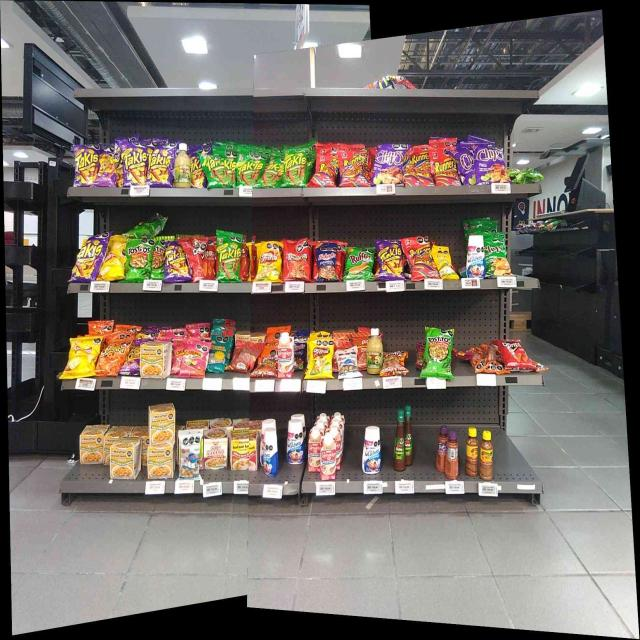bitzEnchilado95: (474, 346, 499, 372)
bitzHabanero: (415, 341, 423, 368)
bokadosCacahuates: (318, 244, 336, 282), (295, 332, 305, 371)
botaneraChilito: (479, 431, 493, 478), (465, 426, 478, 474)
cheetosFlaminHot: (124, 341, 140, 374)
cheetosOriginal: (99, 339, 122, 374)
chipsFuego: (375, 143, 403, 185), (476, 142, 504, 182), (458, 146, 475, 184)
chipsJalapeno: (486, 236, 507, 275)
chipsPapatinas: (510, 168, 538, 183)
churrumais: (182, 342, 206, 376)
delPrimoSalsa: (366, 328, 382, 371), (176, 143, 190, 187)
doritosNacho: (190, 238, 210, 277), (502, 339, 527, 370)
fritosLimon: (309, 340, 332, 377), (258, 242, 280, 280)
leoCacahuates: (180, 431, 200, 480), (338, 350, 358, 377)
leoMix: (256, 347, 277, 376), (384, 352, 406, 375)
maruchanPollo: (110, 438, 142, 477), (149, 404, 175, 442), (142, 343, 170, 376), (148, 445, 174, 477)
maruchanRes: (232, 431, 257, 470)
nestleCarnation: (320, 434, 335, 480), (279, 333, 293, 377), (308, 429, 320, 472)
nestleLechera: (362, 426, 381, 474), (262, 428, 278, 476), (287, 420, 304, 464), (467, 235, 484, 277)
nissinRes: (204, 430, 227, 469)
productoAtras: (234, 343, 253, 371)
rancheritos: (285, 241, 309, 280)
rufflesQueso: (347, 247, 372, 279)
runners: (410, 238, 434, 278), (341, 152, 367, 188), (434, 146, 456, 186), (414, 148, 431, 186), (318, 152, 336, 186), (368, 76, 409, 88)
sabritasOriginal: (71, 339, 96, 373), (105, 241, 124, 281)
salsaBufalo: (394, 409, 403, 472), (406, 405, 412, 465)
semillasCalabaza: (437, 247, 453, 279)
semillasGirasol: (211, 330, 227, 372)
tajinDulce: (445, 432, 459, 476), (436, 426, 444, 472)
takisFuego: (78, 234, 102, 280), (123, 141, 148, 184), (150, 144, 172, 185), (75, 145, 97, 185), (379, 242, 402, 280), (165, 242, 187, 280), (99, 150, 117, 188)
takisOriginal: (217, 232, 240, 280), (238, 150, 260, 186), (285, 148, 304, 187), (205, 154, 226, 186), (264, 157, 283, 186)
tostitos: (425, 328, 451, 376), (127, 238, 148, 278), (129, 214, 165, 235), (151, 237, 164, 280)
